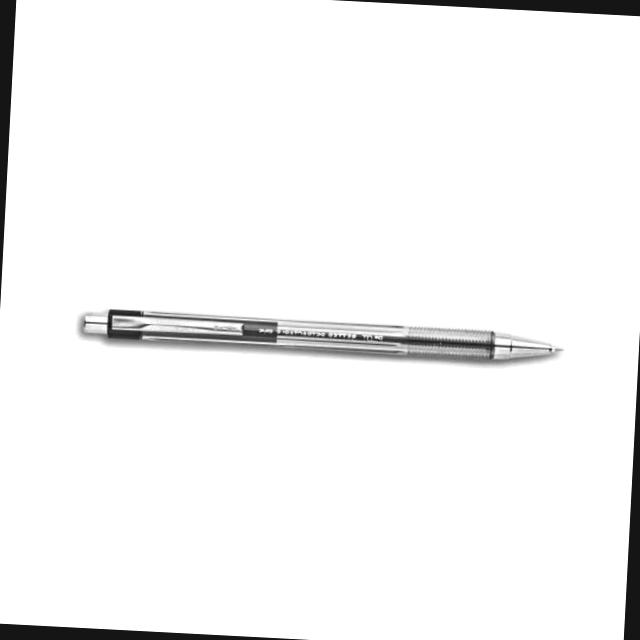Pen: (72, 292, 573, 391)
